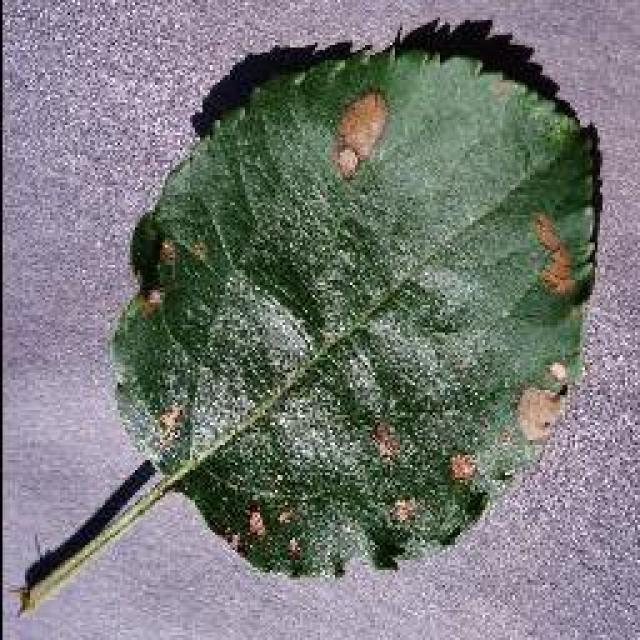apple scab disease: (107, 15, 605, 580)
